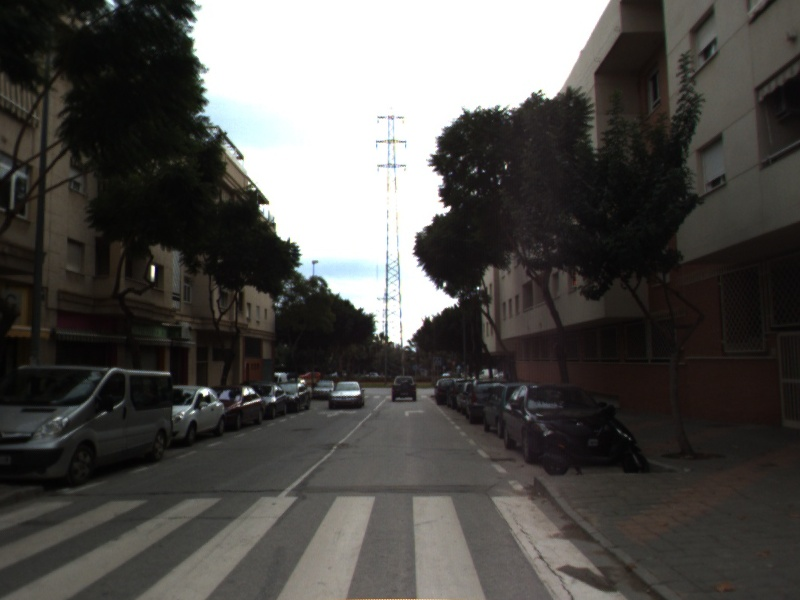RIGHT: (402, 407, 427, 419)
